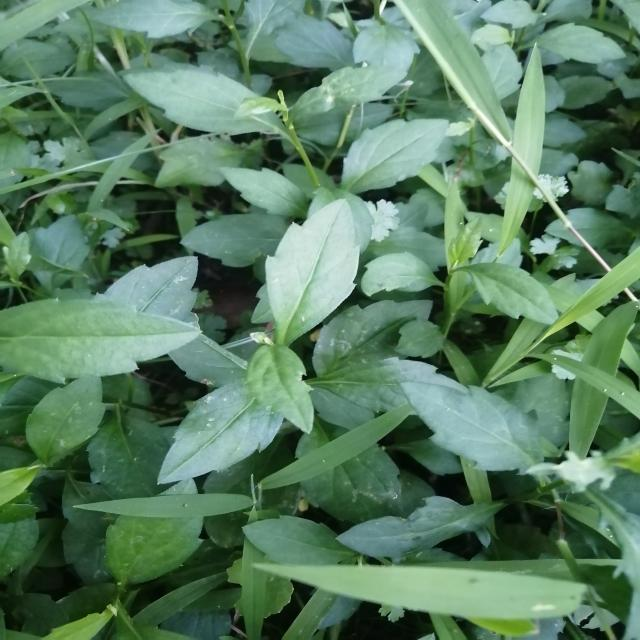Indian aster: (144, 204, 436, 466)
